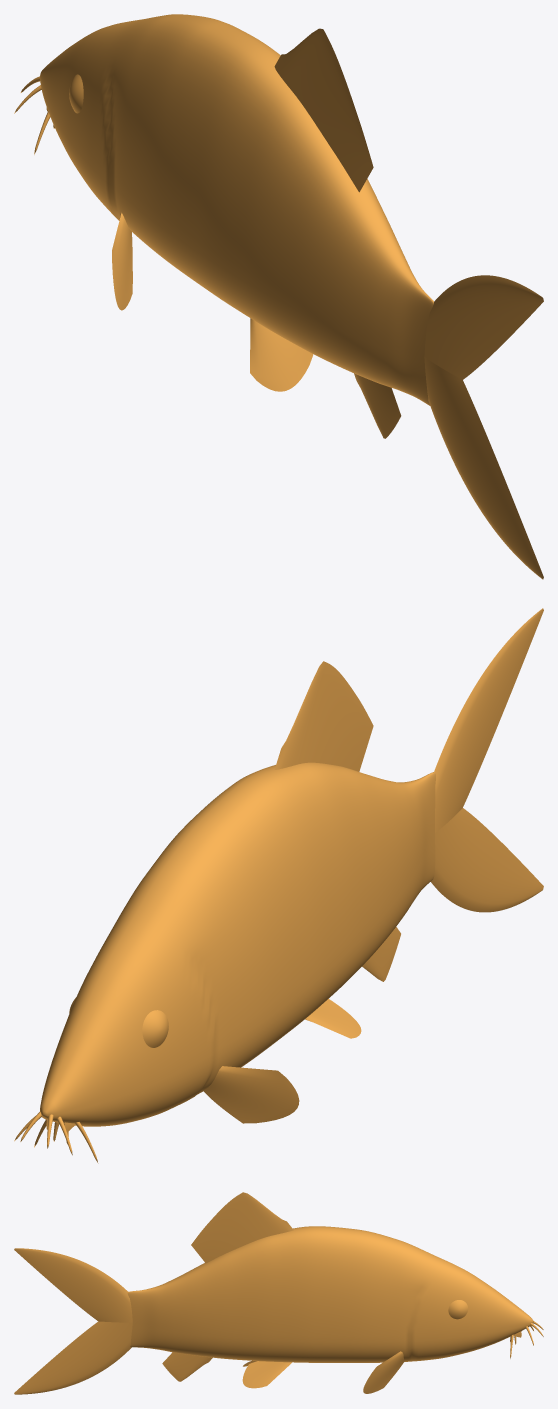
File: clown_loach.glb
3 views of the same model, one above another, from view 1: azimuth 30°, elevation 25°; view 2: azimuth 150°, elevation 25°; view 3: azimuth 270°, elevation 25° (orthographic). The views are drawn at different scales.
Parts seen in each view (by area): view 1: clown_loach; view 2: clown_loach; view 3: clown_loach.
Boxes of the visible parts, bbox=[...] form: clown_loach: bbox=[14, 14, 543, 579]; clown_loach: bbox=[14, 608, 543, 1163]; clown_loach: bbox=[14, 1192, 543, 1394].
Size of the model in its own units: 0.0422 by 0.0856 by 0.2032.
